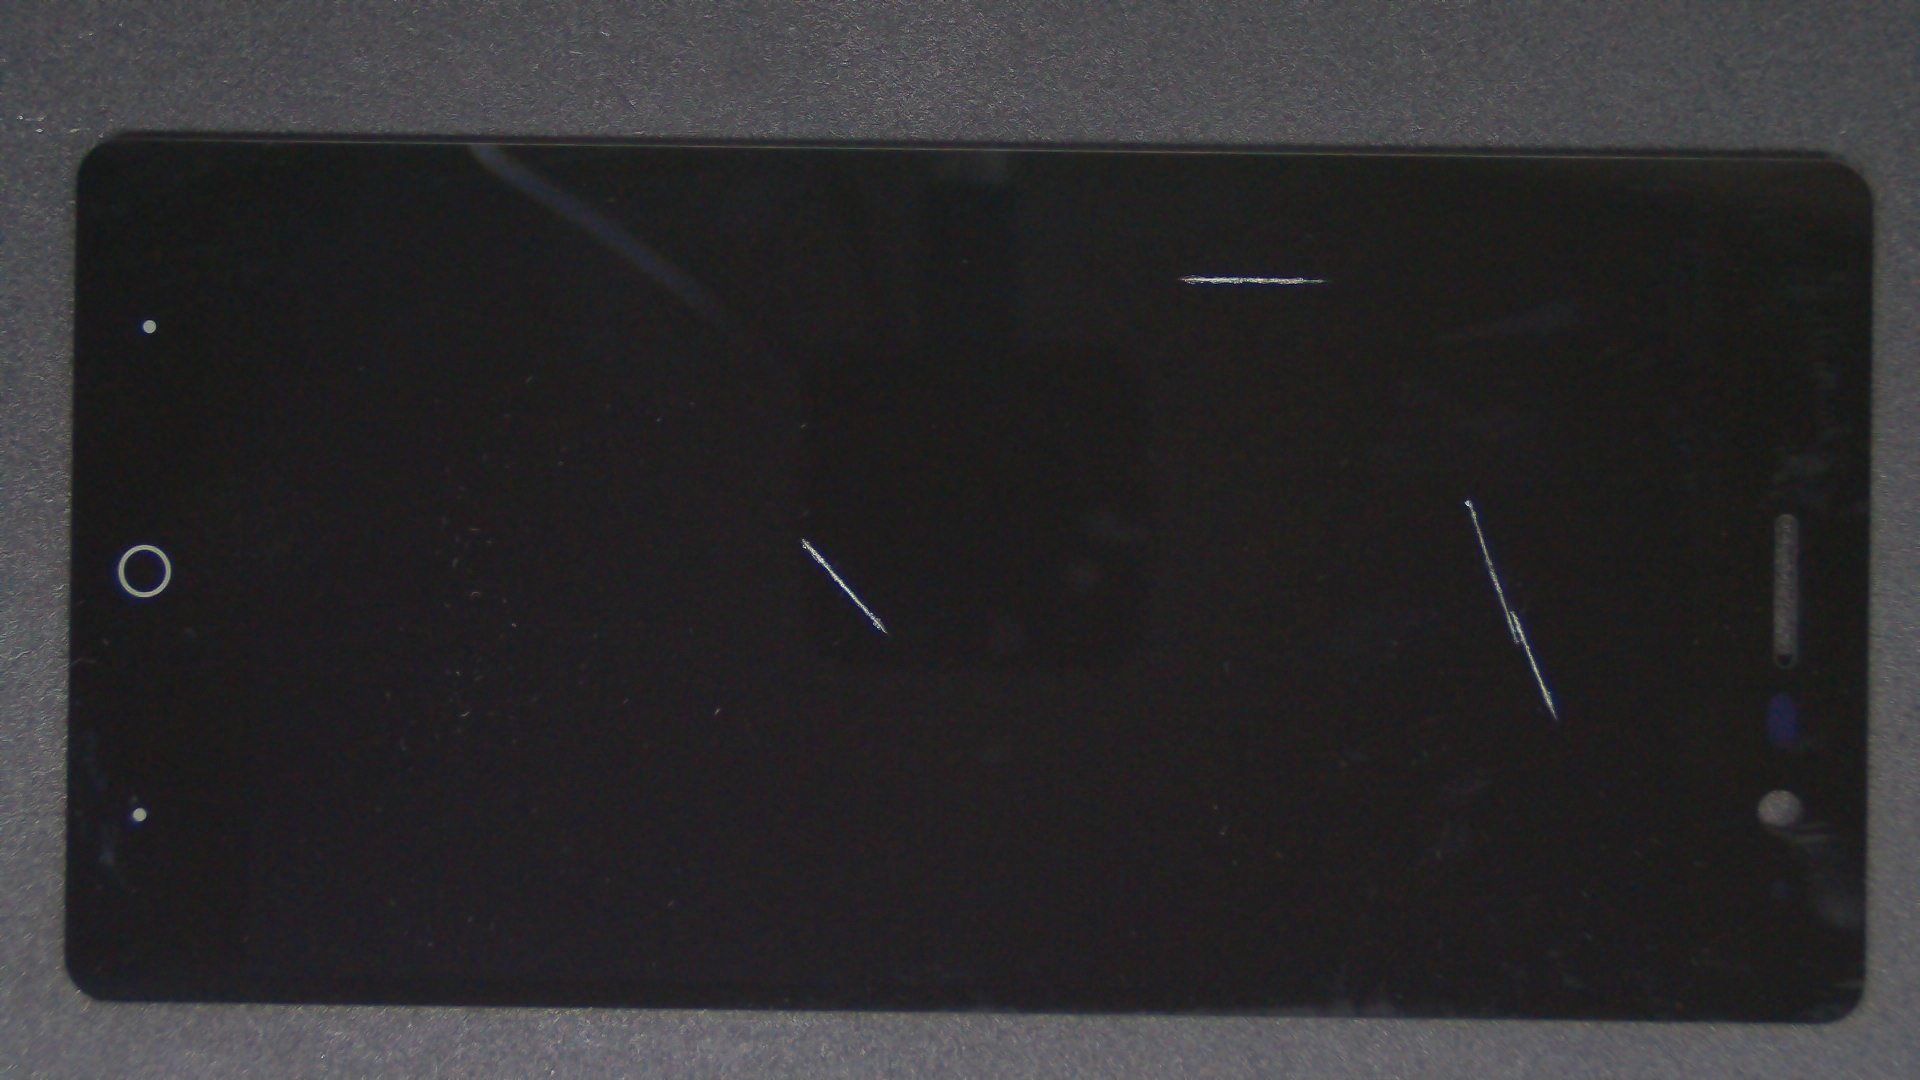oil: (735, 248, 1920, 748), (402, 268, 1203, 808), (592, 137, 1774, 411)
